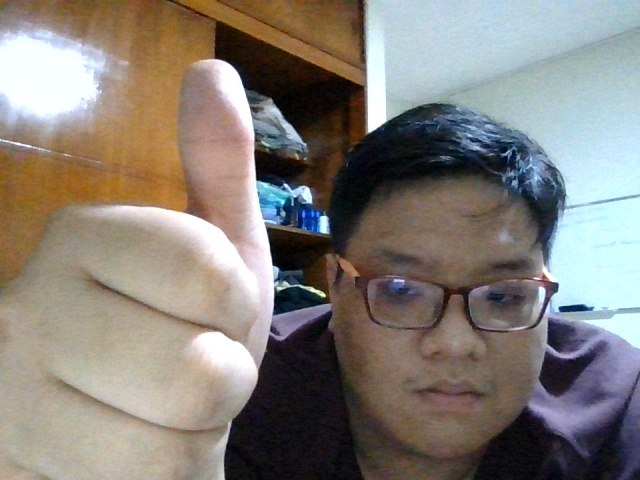si: (2, 58, 281, 478)
